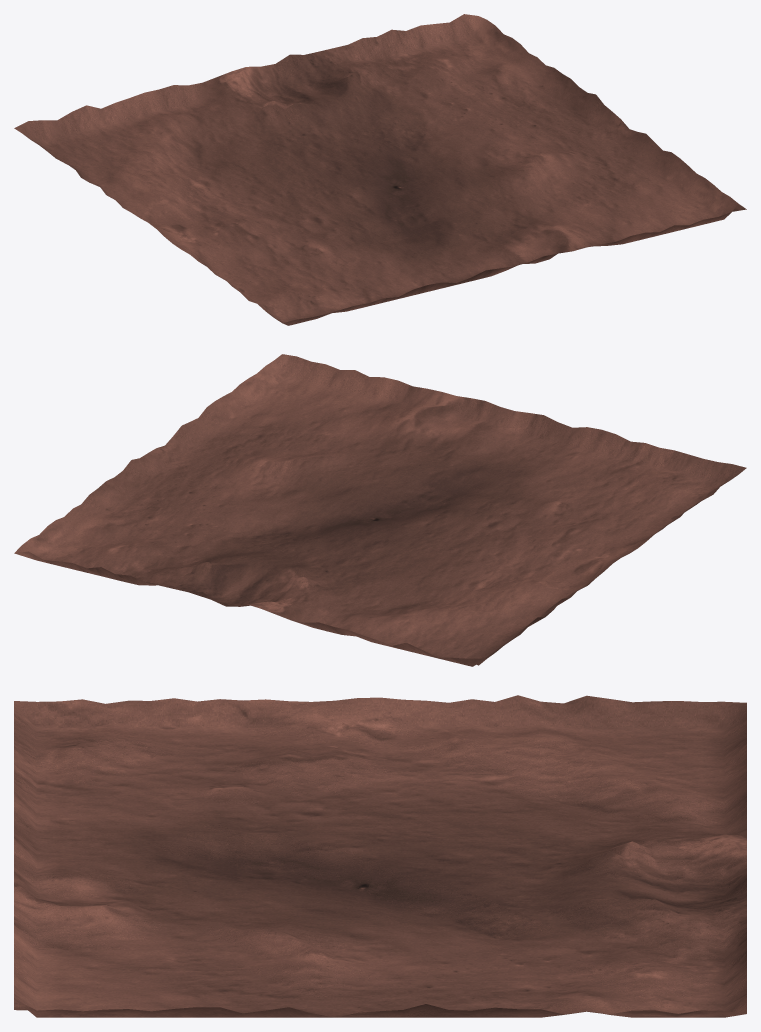
Rendered from landing_site_terrain.fbx.
The picture shows the model from 3 angles, top to bottom: view 1: azimuth 30°, elevation 25°; view 2: azimuth 150°, elevation 25°; view 3: azimuth 270°, elevation 25°; orthographic projection. The views are drawn at different scales.
Parts seen in each view (by area): view 1: Plane; view 2: Plane; view 3: Plane.
Boxes of the visible parts, x1,y1,x2,y2 form: Plane: (14,14,746,325); Plane: (14,354,746,666); Plane: (14,695,746,1017).
Bounding box in the file's own units: 10 × 0.4737 × 10.
Materials: 1 (1 with a texture image).
